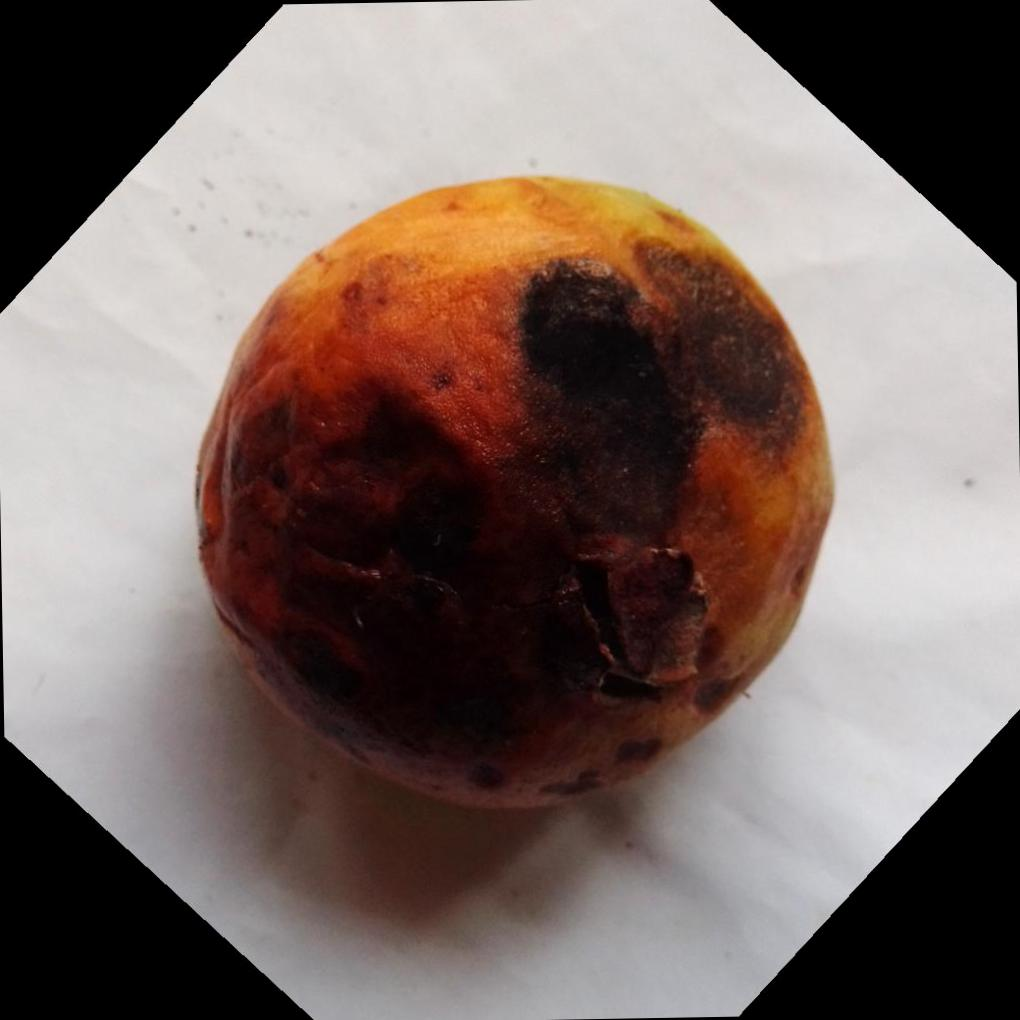FreshOrange: (192, 174, 836, 816)
